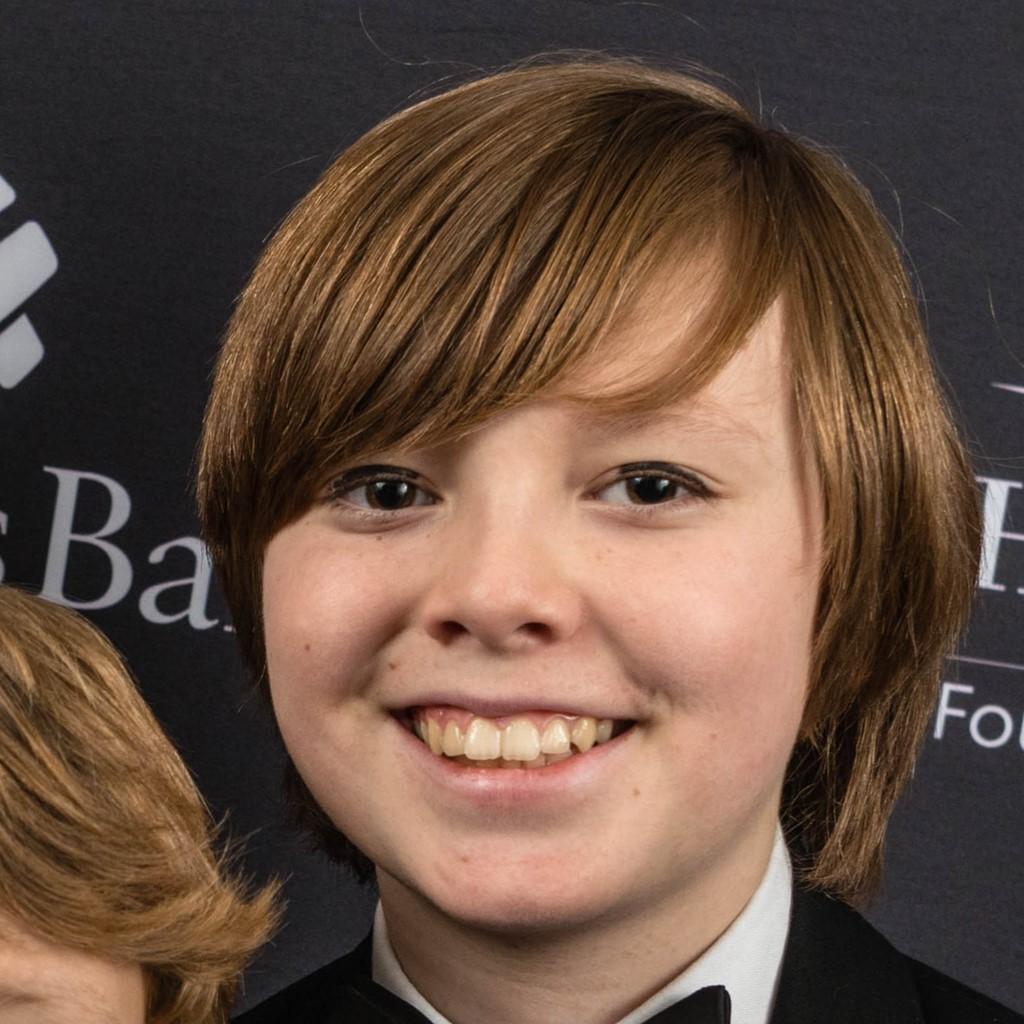sin_mascara: (235, 156, 856, 934)
